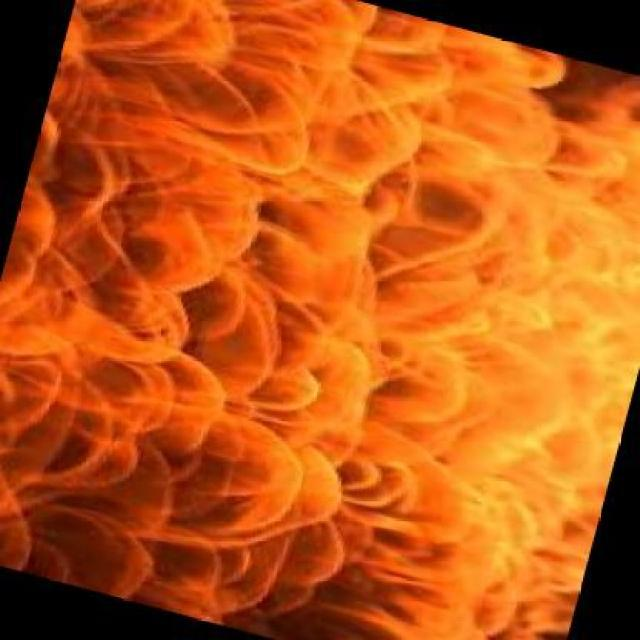Fire: (70, 3, 585, 630)
